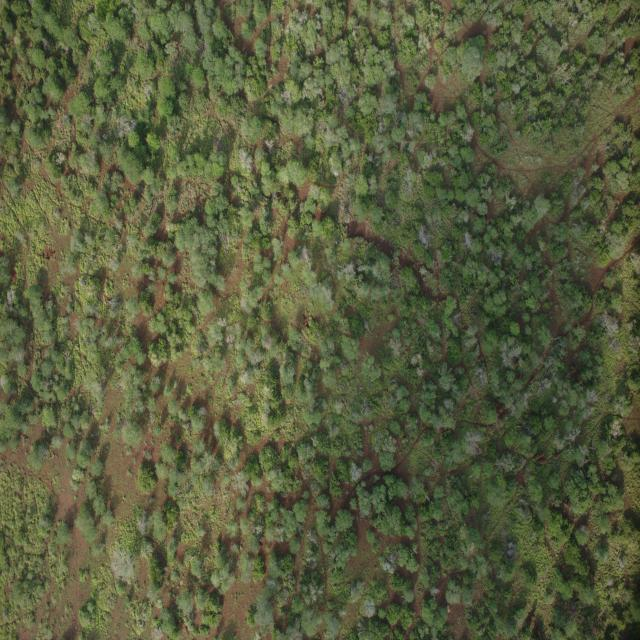elephant: (589, 572, 595, 584), (537, 360, 543, 371), (530, 616, 535, 628), (552, 453, 560, 459), (534, 454, 545, 458), (499, 405, 505, 412), (563, 502, 570, 508), (514, 360, 519, 368), (530, 376, 535, 384), (538, 460, 548, 464), (537, 630, 541, 640), (581, 381, 585, 389), (571, 365, 576, 371), (577, 375, 581, 381), (519, 374, 522, 381), (550, 625, 554, 629)
